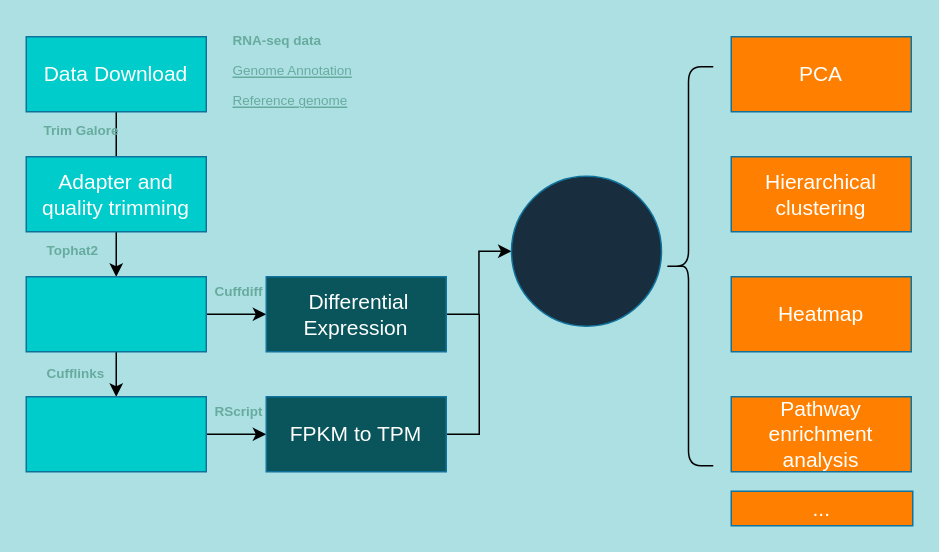
This 939x552 diagram has some shape labels left out. The shapes that lost their labels are listed below. From the top down, each one's centre as x and y in pixels, then its label:
point (586, 250): Functional Analysis With R
point (115, 313): Reads Mapping
point (115, 433): Count Mapped Reads
